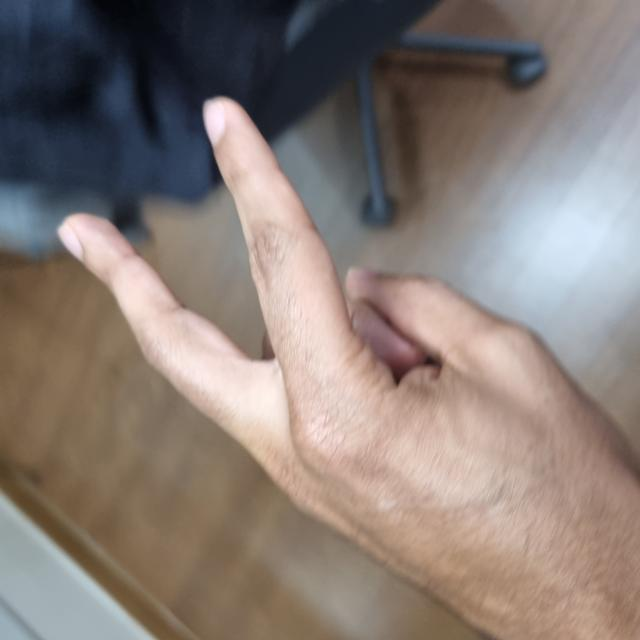Scissors: (0, 62, 535, 640)
